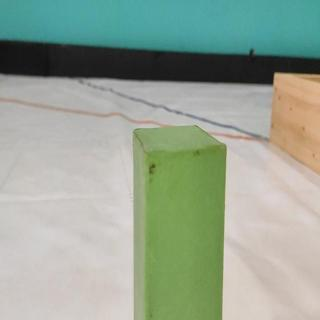greenbox: (127, 123, 230, 320)
